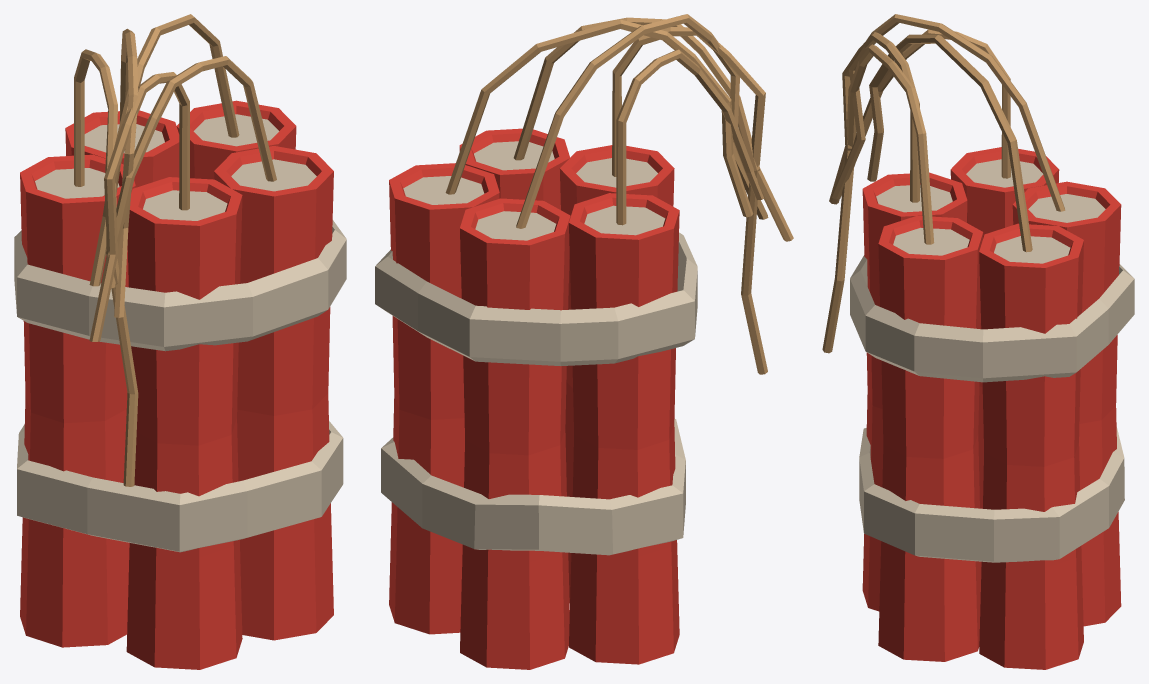
File: Dynamite_2.fbx
3 renders of one model, left to right at view 1: azimuth 30°, elevation 25°; view 2: azimuth 150°, elevation 25°; view 3: azimuth 270°, elevation 25°, orthographic. The views are drawn at different scales.
Visible parts, largest first — view 1: Dynamite_2; view 2: Dynamite_2; view 3: Dynamite_2.
Boxes of the visible parts, bbox=[...] form: Dynamite_2: bbox=[14, 14, 346, 669]; Dynamite_2: bbox=[375, 14, 793, 669]; Dynamite_2: bbox=[822, 14, 1134, 669].
Size of the model in its own units: 19.75 by 18.67 by 36.66.
